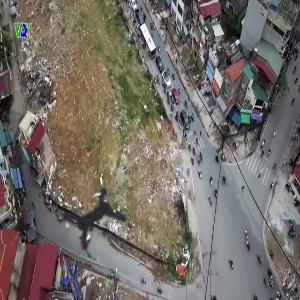drone: (29, 148, 169, 288)
